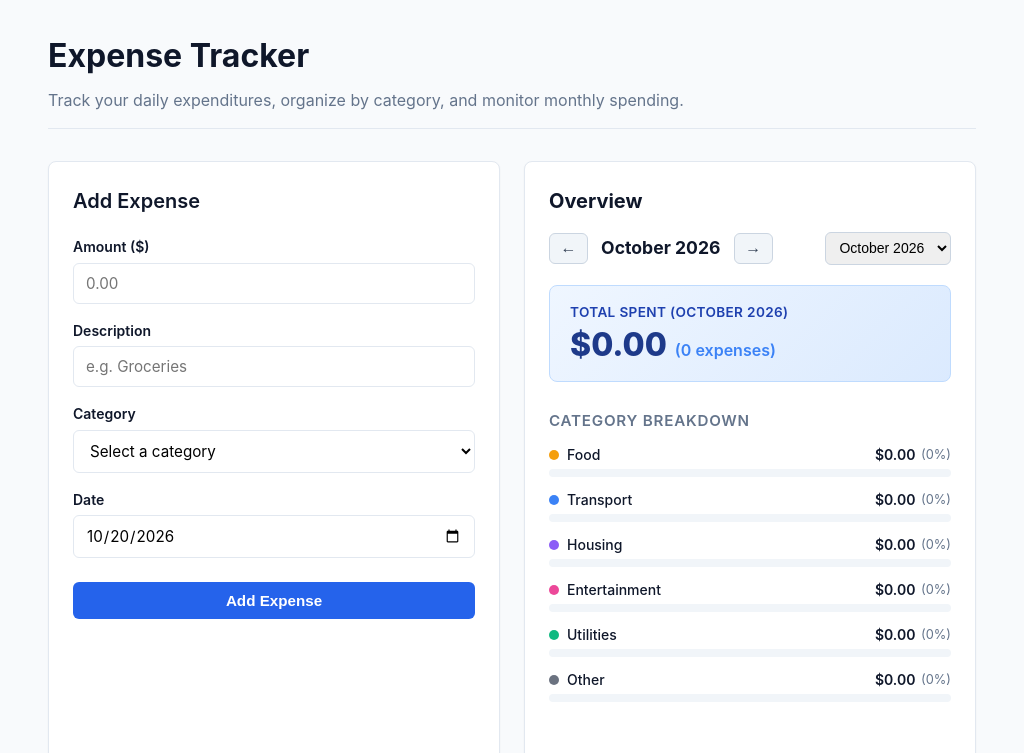
Issue #3 - UI, Expense Management & LocalStorage Persistence › Feature 2: Expense Creation, Inline Validation & Prepending › displays inline validation errors when submitting invalid inputs and prevents creation
// Submit empty form
Click the button "Add Expense" at (274, 601), box left=73, top=582, right=475, bottom=619
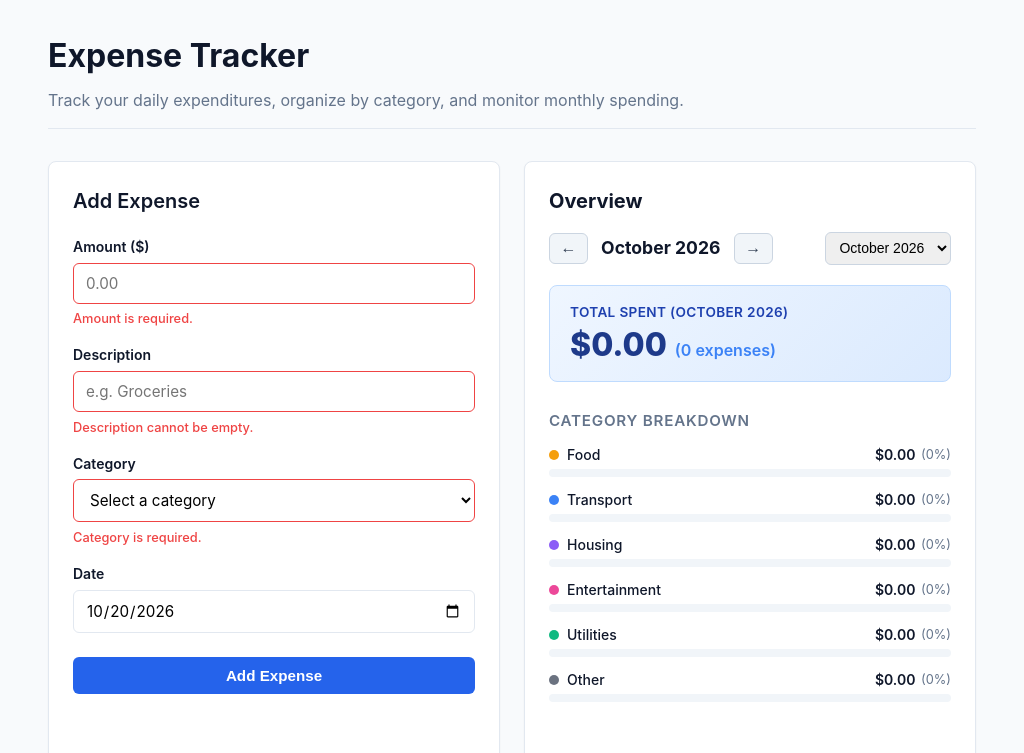
Expected: the text "Amount is required." is shown, left=73, top=311, right=193, bottom=326
Expected: the text "Description cannot be empty." is shown, left=73, top=420, right=253, bottom=435
Expected: the text "Category is required." is shown, left=73, top=530, right=202, bottom=545
